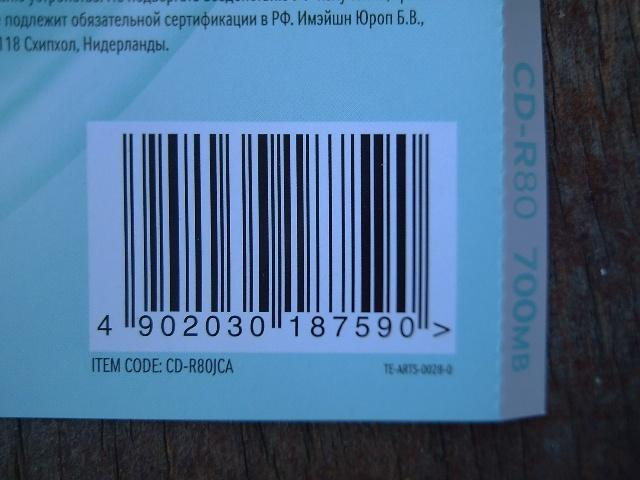Barcode: (85, 121, 457, 355)
